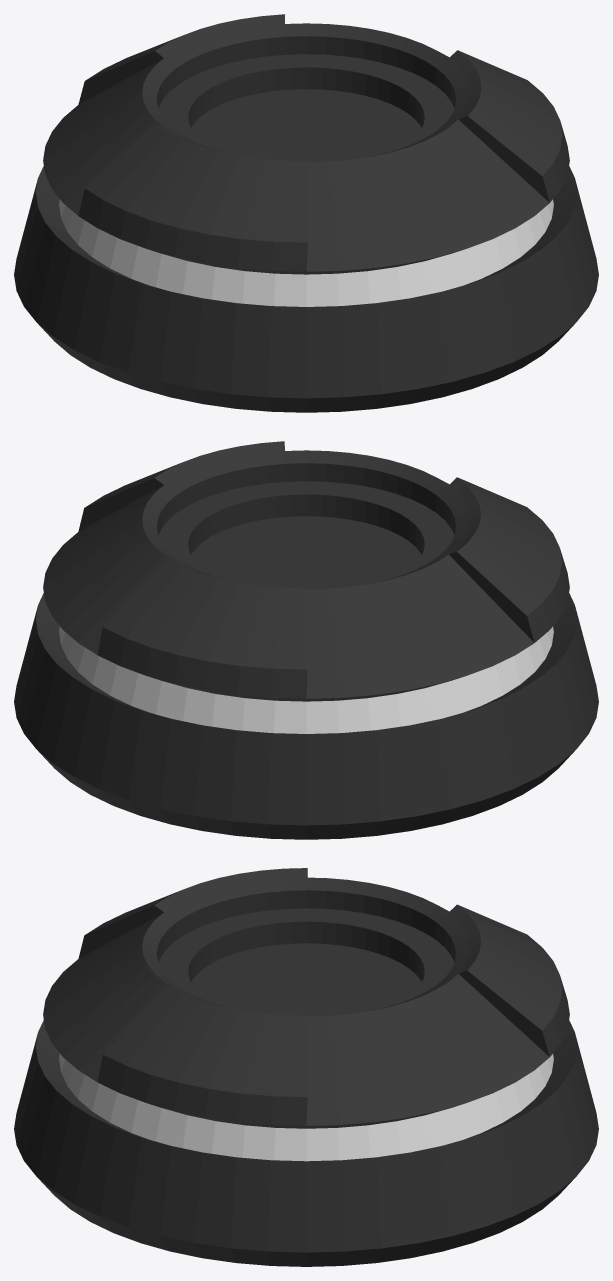
The model's file is laser_caster.fbx.
3 renders of one model, top to bottom at view 1: azimuth 30°, elevation 25°; view 2: azimuth 150°, elevation 25°; view 3: azimuth 270°, elevation 25°, orthographic.
Visible parts, largest first — view 1: LaserCaster, Emissive; view 2: LaserCaster, Emissive; view 3: LaserCaster, Emissive.
Boxes of the visible parts, x1,y1,x2,y2 form: LaserCaster: [14, 14, 598, 412]; Emissive: [59, 199, 553, 306]; LaserCaster: [14, 441, 598, 839]; Emissive: [59, 626, 553, 733]; LaserCaster: [14, 868, 598, 1266]; Emissive: [59, 1054, 553, 1161].
Bounding box in the file's own units: 196 × 77.63 × 196.
